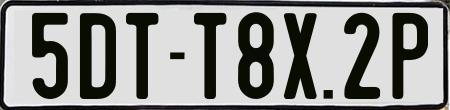2: (342, 12, 382, 102)
5: (30, 10, 67, 102)
8: (238, 11, 275, 99)
D: (80, 11, 121, 97)
P: (389, 13, 426, 102)
T: (191, 10, 228, 101), (123, 10, 157, 99)
X: (283, 12, 320, 104)
